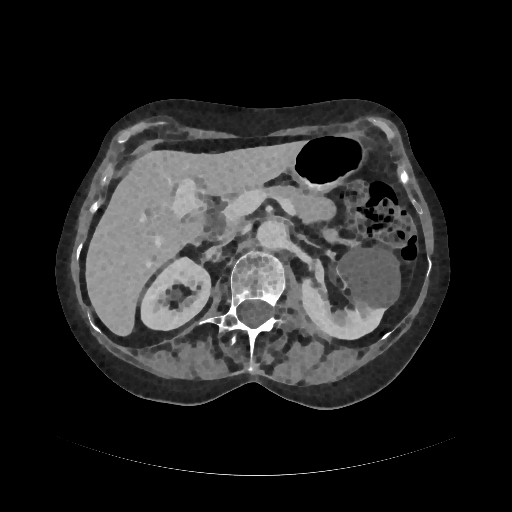Lesion: (331, 242, 404, 311)
